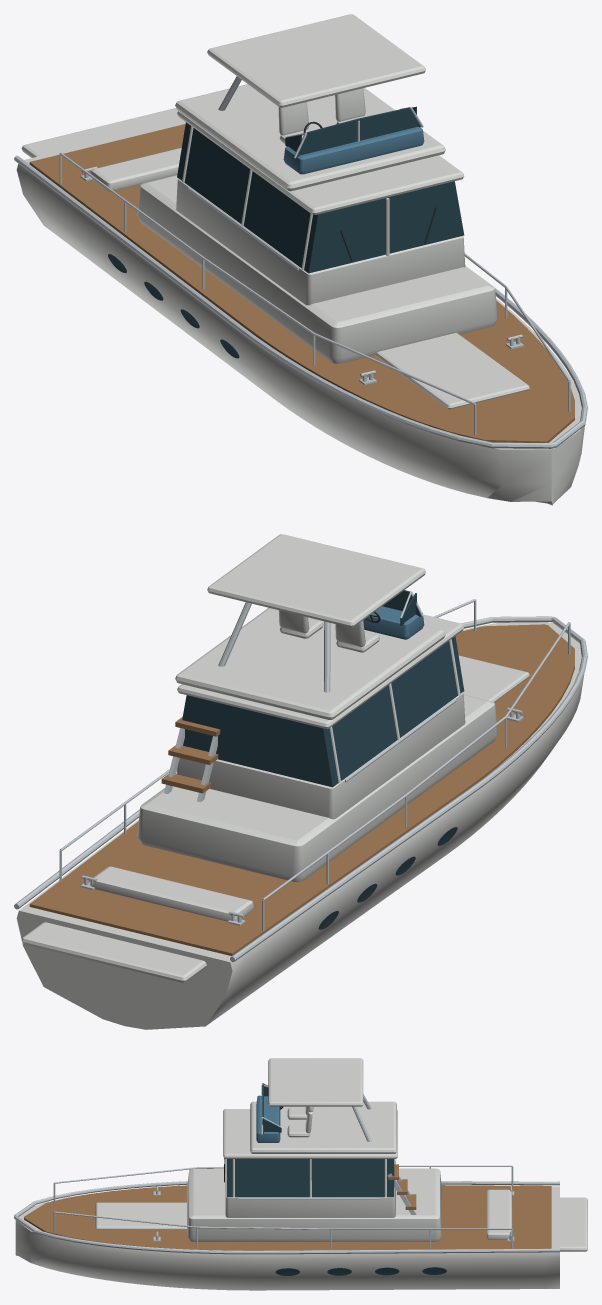
The model's file is mavi52-flybridge-yacht.glb.
3 renders of one model, top to bottom at view 1: azimuth 30°, elevation 25°; view 2: azimuth 150°, elevation 25°; view 3: azimuth 270°, elevation 25°, orthographic. The views are drawn at different scales.
Parts seen in each view (by area): view 1: flybridge-yacht; view 2: flybridge-yacht; view 3: flybridge-yacht.
Part boxes in pixels (x1,y1,x2,y2): flybridge-yacht: (14,14,587,505); flybridge-yacht: (14,534,587,1029); flybridge-yacht: (14,1058,587,1290).
Bounding box in the file's own units: 3.99 × 5 × 13.29.
